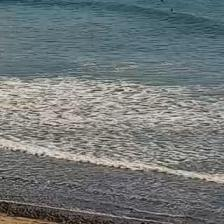surfer: (161, 0, 165, 3), (170, 9, 173, 12)
